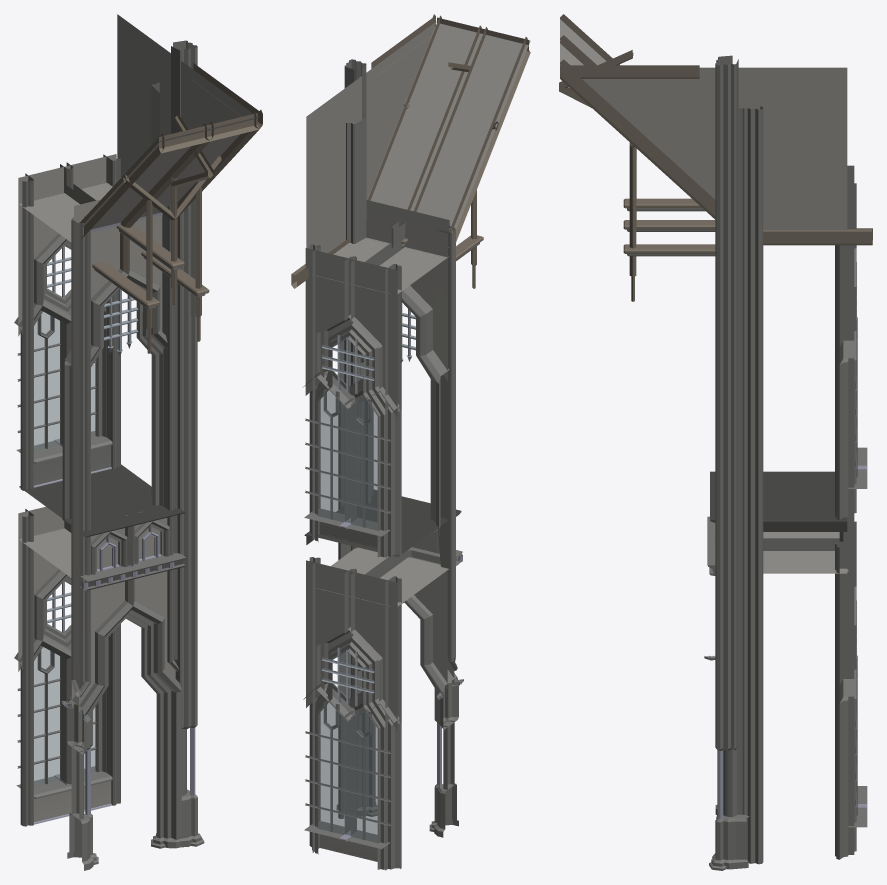
File: Stairs_Connection_Tile.fbx
3 views of the same model, side by side, from view 1: azimuth 30°, elevation 25°; view 2: azimuth 150°, elevation 25°; view 3: azimuth 270°, elevation 25° (orthographic). The views are drawn at different scales.
Visible parts, largest first — view 1: polySurface610, polySurface609, pCube855, polySurface338, polySurface409, polySurface360, polySurface485, polySurface343, polySurface341, pCube581, pCube484, pCube405 (+34 smaller); view 2: pCube405, pCube855, pCube440, pCube530, polySurface404, polySurface336, polySurface609, polySurface611, polySurface341, polySurface371, polySurface471, polySurface470 (+28 smaller); view 3: pCube855, polySurface611, polySurface610, polySurface409, pCube484, polySurface338, polySurface614, polySurface404, polySurface336, pCube359, polySurface613, polySurface618 (+6 smaller).
Part boxes in pixels (box(x1,y1,x2,y2)): polySurface610: box(171, 40, 204, 847); polySurface609: box(61, 525, 181, 870); pCube855: box(117, 14, 251, 177); polySurface338: box(22, 154, 120, 490); polySurface409: box(22, 509, 120, 826); polySurface360: box(79, 216, 90, 697); polySurface485: box(162, 205, 179, 671); polySurface343: box(91, 269, 167, 506); polySurface341: box(71, 218, 79, 696); pCube581: box(72, 518, 175, 712); pCube484: box(19, 464, 163, 524); pCube405: box(80, 116, 258, 229); pCube405: box(367, 23, 530, 247); pCube855: box(306, 21, 436, 253); pCube440: box(305, 248, 397, 417); pCube530: box(306, 560, 397, 730); polySurface404: box(303, 626, 401, 869); polySurface336: box(302, 314, 401, 557); polySurface609: box(352, 550, 463, 837); polySurface611: box(338, 117, 366, 818); polySurface341: box(437, 229, 457, 670); polySurface371: box(358, 286, 446, 527); polySurface471: box(317, 700, 347, 834); polySurface470: box(348, 709, 378, 842); pCube855: box(582, 67, 847, 229); polySurface611: box(737, 106, 763, 864); polySurface610: box(709, 55, 749, 870); polySurface409: box(835, 516, 854, 859); pCube484: box(763, 471, 847, 531); polySurface338: box(835, 165, 854, 519); polySurface614: box(560, 62, 715, 219); polySurface404: box(839, 586, 856, 859); polySurface336: box(839, 248, 856, 519); pCube359: box(763, 532, 847, 573); polySurface613: box(560, 65, 699, 78); polySurface618: box(763, 229, 871, 245).
Size of the model in its own units: 5.06 by 30.85 by 10.93.
